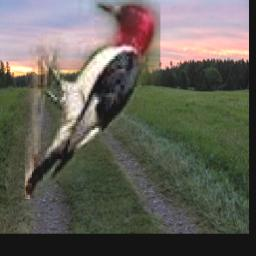Woodpecker: (25, 0, 160, 199)
